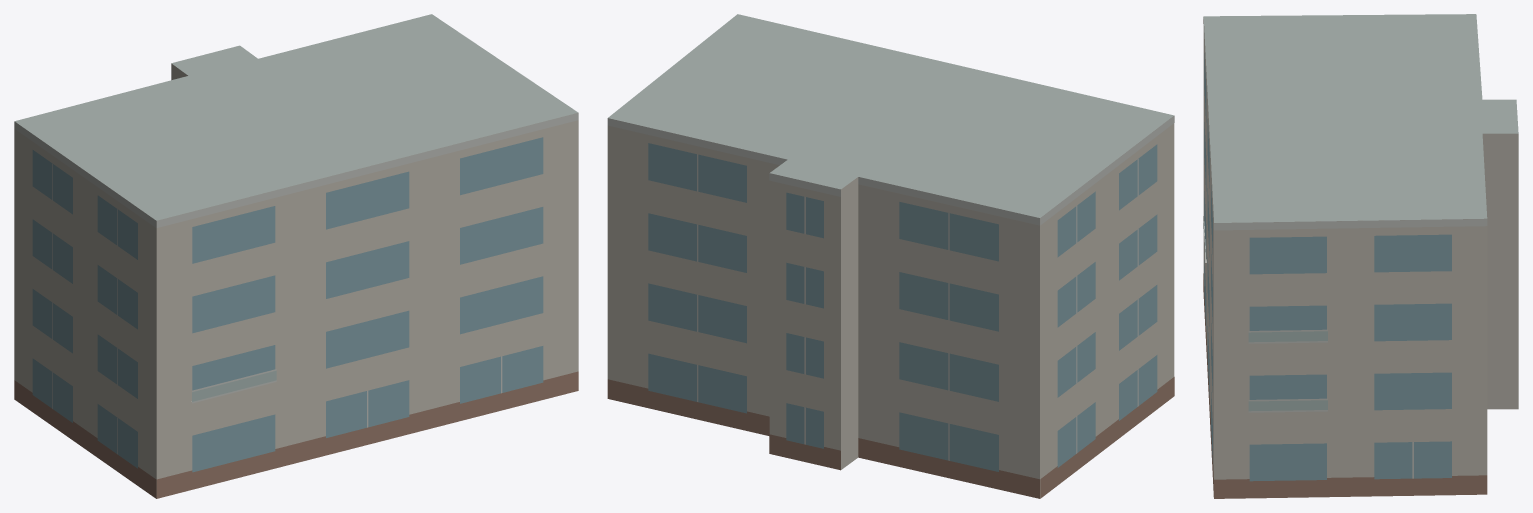
File: survey-upis-32953388.glb
The picture shows the model from 3 angles, left to right: view 1: azimuth 30°, elevation 25°; view 2: azimuth 150°, elevation 25°; view 3: azimuth 270°, elevation 25°; orthographic projection.
Parts seen in each view (by area): view 1: survey-upis-32953388.tmp; view 2: survey-upis-32953388.tmp; view 3: survey-upis-32953388.tmp.
Boxes of the visible parts, x1,y1,x2,y2 form: survey-upis-32953388.tmp: (14, 14, 578, 498); survey-upis-32953388.tmp: (607, 14, 1174, 498); survey-upis-32953388.tmp: (1203, 14, 1518, 498).
Size of the model in its own units: 14.8 by 9.1 by 9.44.
